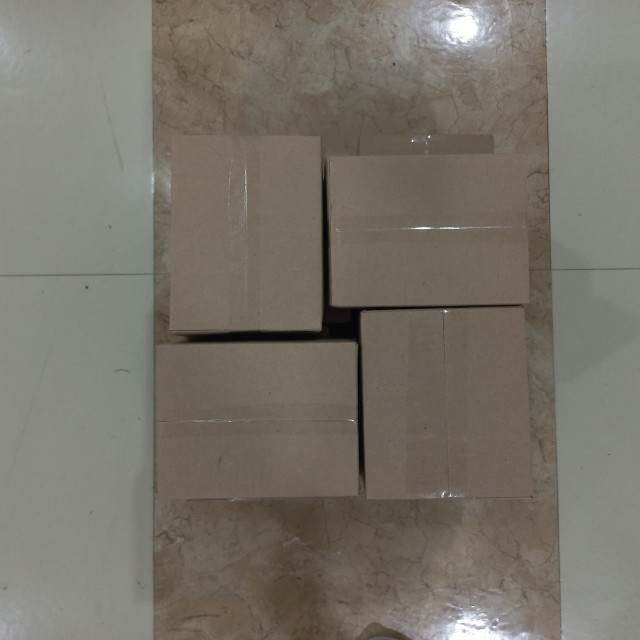box: (152, 336, 363, 504), (358, 306, 535, 502), (325, 152, 530, 311), (169, 131, 327, 337)
